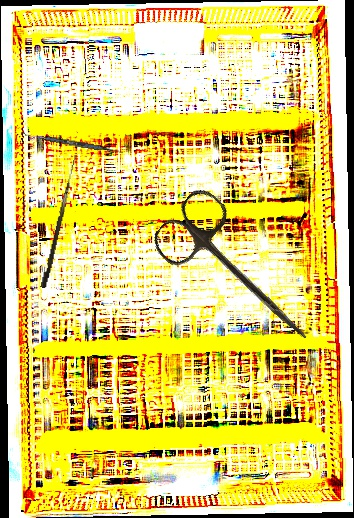Hook Surgical: (40, 153, 77, 289)
Iris Scissors: (146, 183, 336, 365)
Spatula Surgical: (20, 131, 124, 155)
